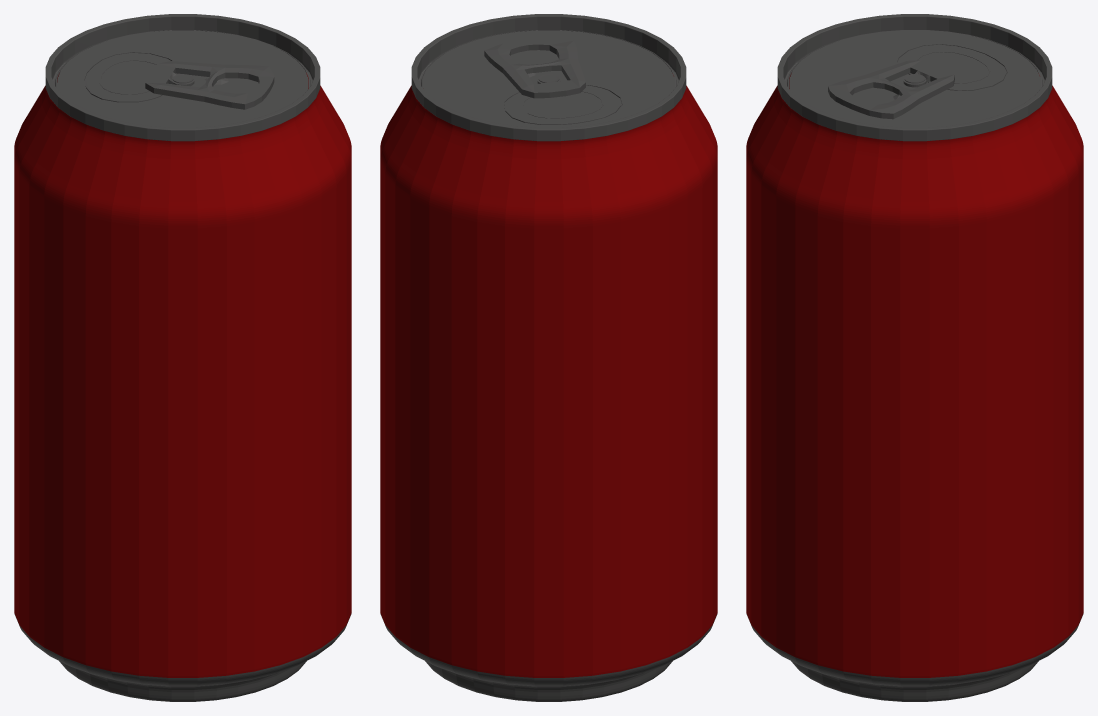
3 renders of one model, left to right at view 1: azimuth 30°, elevation 25°; view 2: azimuth 150°, elevation 25°; view 3: azimuth 270°, elevation 25°, orthographic.
Parts seen in each view (by area): view 1: mesh19.001_mesh19-geometry, mesh20.001_mesh20-geometry; view 2: mesh19.001_mesh19-geometry, mesh20.001_mesh20-geometry; view 3: mesh19.001_mesh19-geometry, mesh20.001_mesh20-geometry.
Boxes of the visible parts, x1,y1,x2,y2 form: mesh19.001_mesh19-geometry: [14, 73, 351, 701]; mesh20.001_mesh20-geometry: [45, 14, 320, 141]; mesh19.001_mesh19-geometry: [380, 73, 717, 701]; mesh20.001_mesh20-geometry: [411, 14, 686, 141]; mesh19.001_mesh19-geometry: [746, 73, 1083, 701]; mesh20.001_mesh20-geometry: [777, 14, 1052, 141].
Bounding box in the file's own units: 0.424 × 0.8003 × 0.424.
